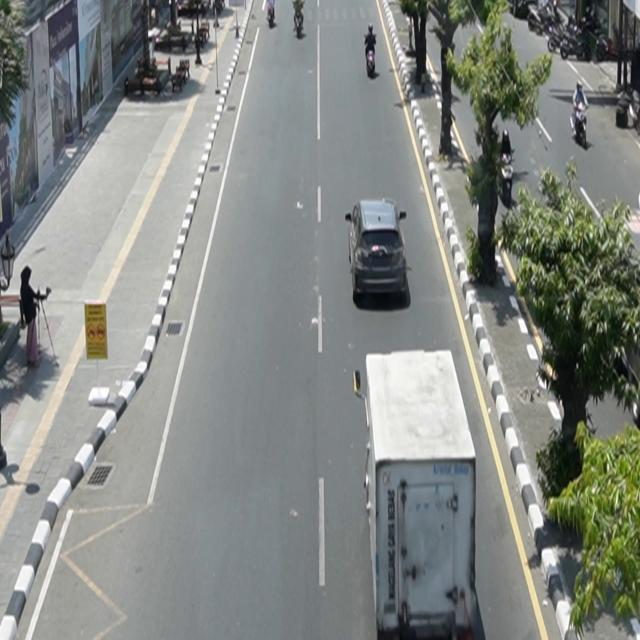car: (345, 197, 408, 300)
truck: (353, 349, 481, 640)
